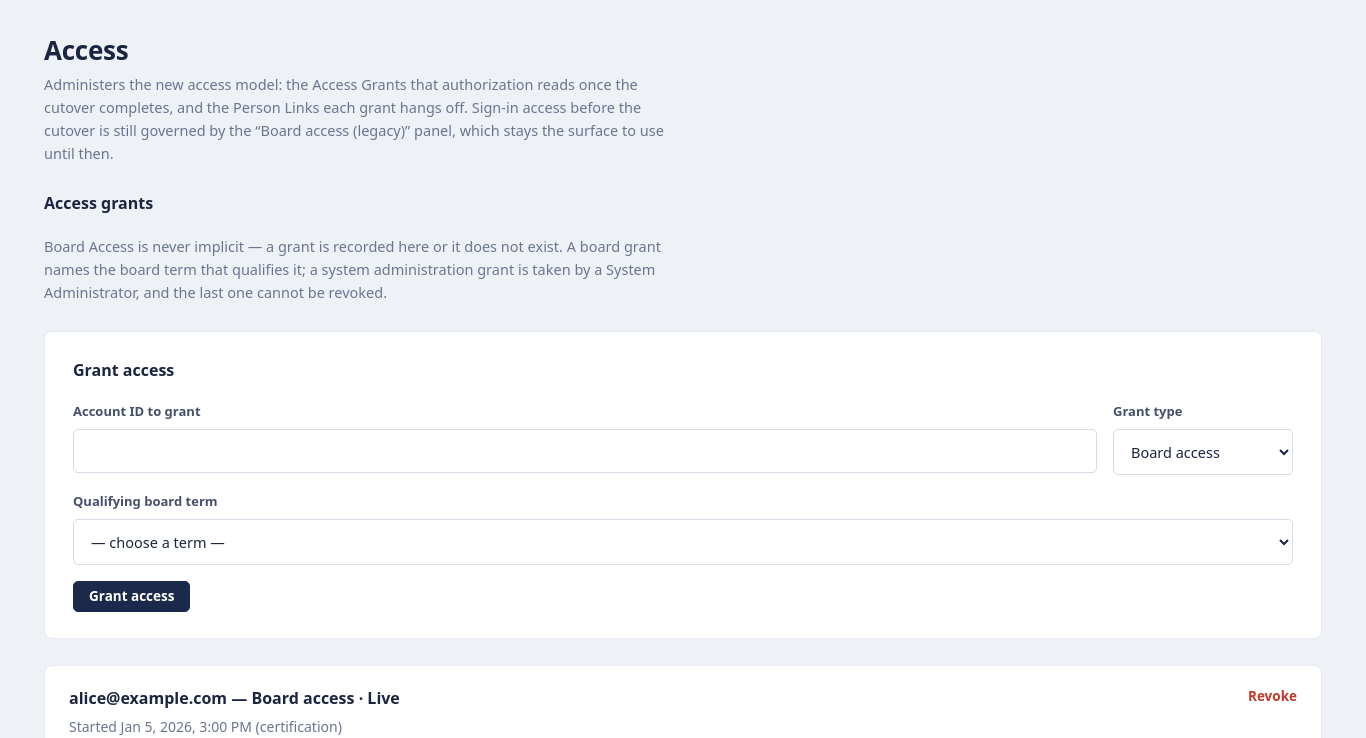
Test case: AccessPanel › revokes a live grant and reloads
The width and height of the screenshot is (1366, 738).
Click the button with aria-label "revoke board grant for alice" at (1272, 697), box [1248, 686, 1297, 708]
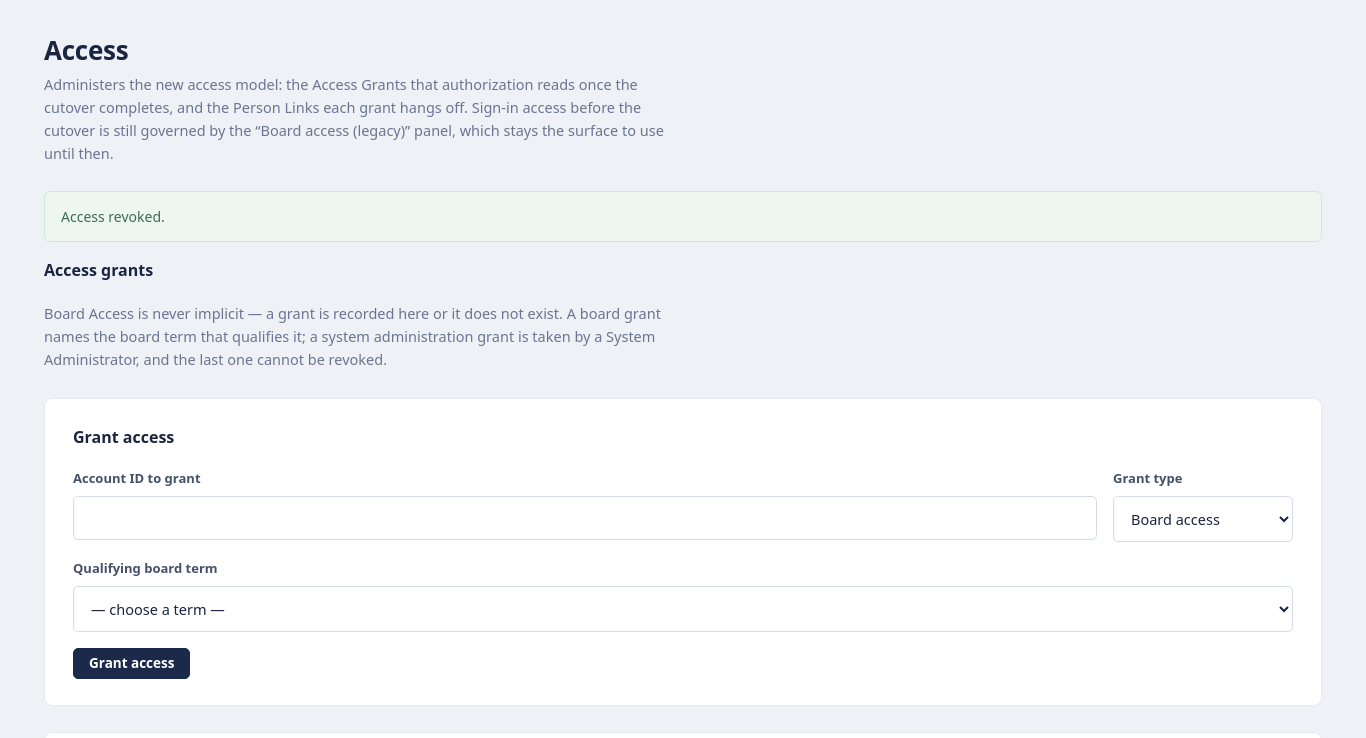
Expected: the text "Access revoked." is shown, [44, 191, 1322, 242]
